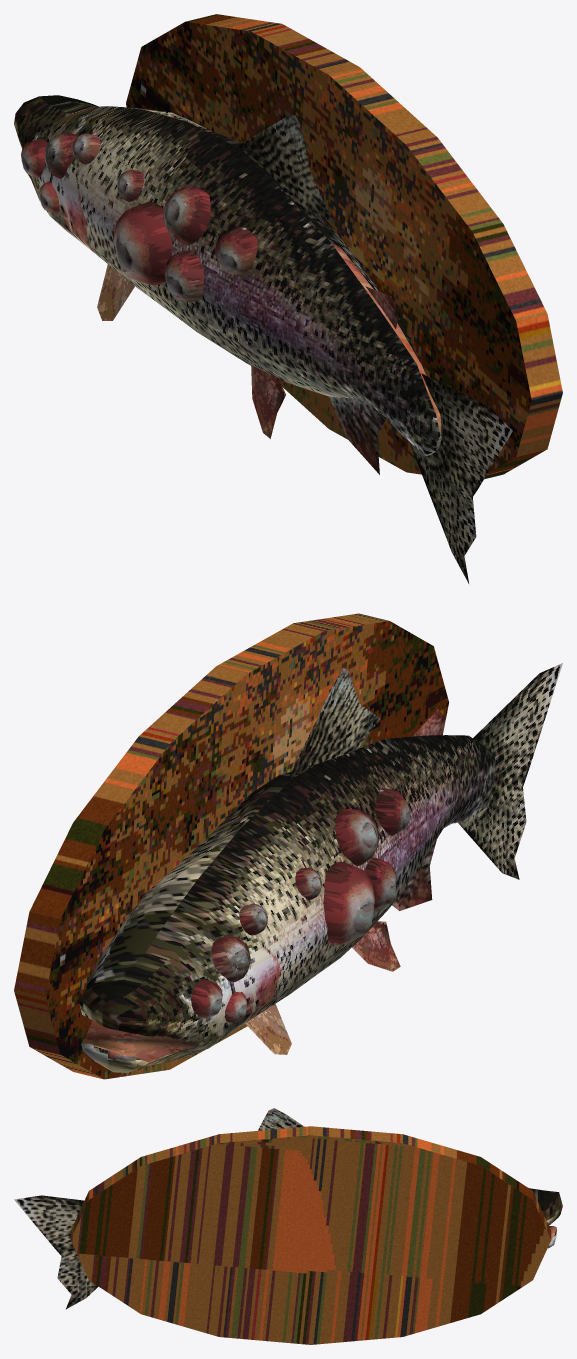
The model's file is TroutMount.fbx.
3 renders of one model, top to bottom at view 1: azimuth 30°, elevation 25°; view 2: azimuth 150°, elevation 25°; view 3: azimuth 270°, elevation 25°, orthographic. The views are drawn at different scales.
Parts seen in each view (by area): view 1: Trout; view 2: Trout; view 3: Trout.
Boxes of the visible parts, x1,y1,x2,y2 form: Trout: (14,14,562,583); Trout: (14,613,562,1079); Trout: (14,1108,562,1344).
Bounding box in the file's own units: 37.92 × 63.97 × 152.
2 materials, 2 textured.
